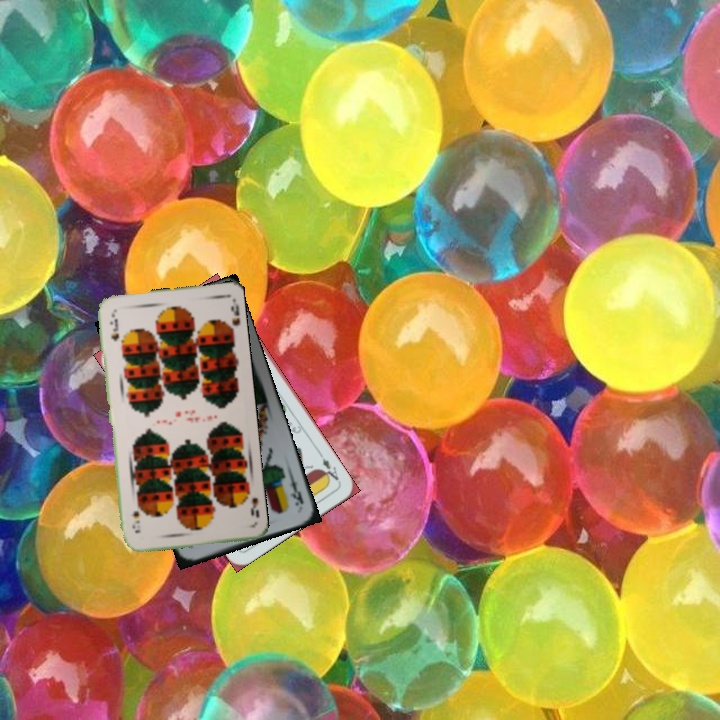EA: (315, 449, 343, 485)
EK: (285, 470, 306, 508)
S9: (240, 484, 262, 520), (106, 309, 121, 343)
